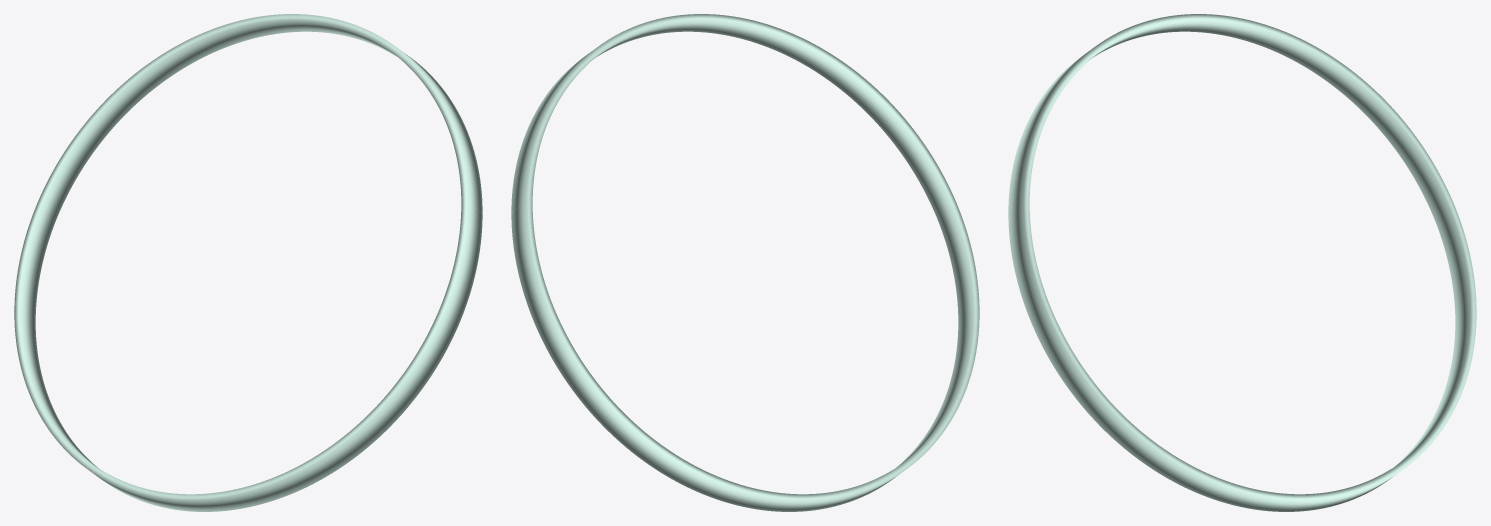
File: coil_coil_16_tube.gltf
The picture shows the model from 3 angles, left to right: view 1: azimuth 30°, elevation 25°; view 2: azimuth 150°, elevation 25°; view 3: azimuth 330°, elevation 25°; orthographic projection.
Parts seen in each view (by area): view 1: Renderer Node; view 2: Renderer Node; view 3: Renderer Node.
Boxes of the visible parts, x1,y1,x2,y2 form: Renderer Node: (14, 14, 482, 511); Renderer Node: (511, 14, 979, 511); Renderer Node: (1008, 14, 1476, 511).
Bounding box in the file's own units: 0.6084 × 0.6084 × 0.035.
